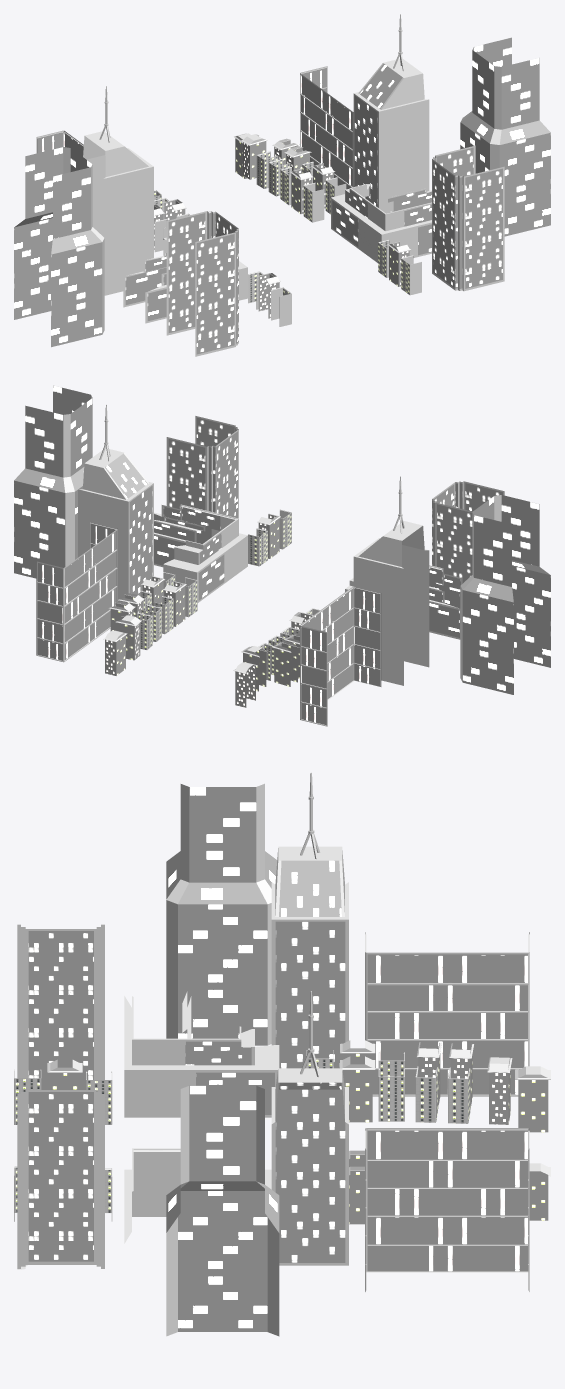
The model's file is m_buildings.fbx.
The picture shows the model from 3 angles, top to bottom: view 1: azimuth 30°, elevation 25°; view 2: azimuth 150°, elevation 25°; view 3: azimuth 270°, elevation 25°; orthographic projection. The views are drawn at different scales.
Visible parts, largest first — view 1: m_buildings; view 2: m_buildings; view 3: m_buildings.
Part boxes in pixels (<box>): m_buildings: <box>14,14,550,356</box>; m_buildings: <box>14,385,550,726</box>; m_buildings: <box>14,772,550,1336</box>.
Size of the model in its own units: 23935 by 9210 by 14613.
